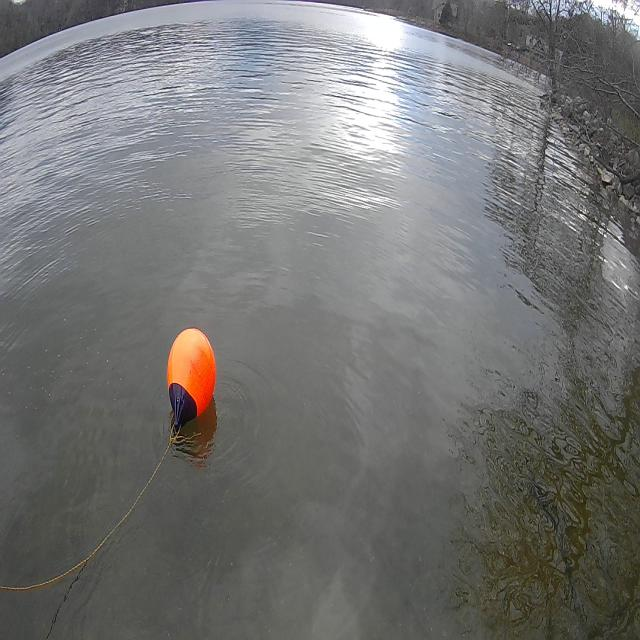Buoy: (160, 319, 223, 431)
